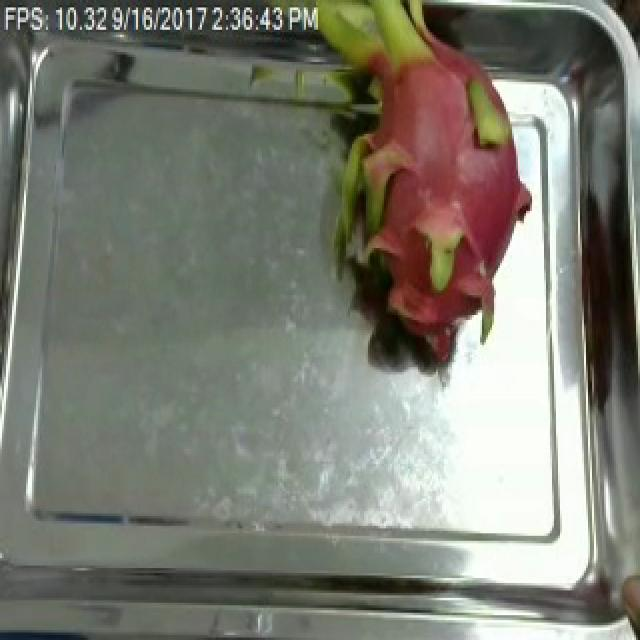fruit: (260, 0, 582, 387)
